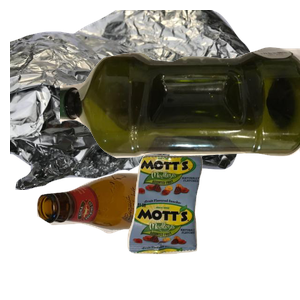glass: (34, 170, 223, 300)
metal: (10, 10, 250, 190)
plastic: (60, 44, 300, 195)
trash: (125, 152, 300, 300)
